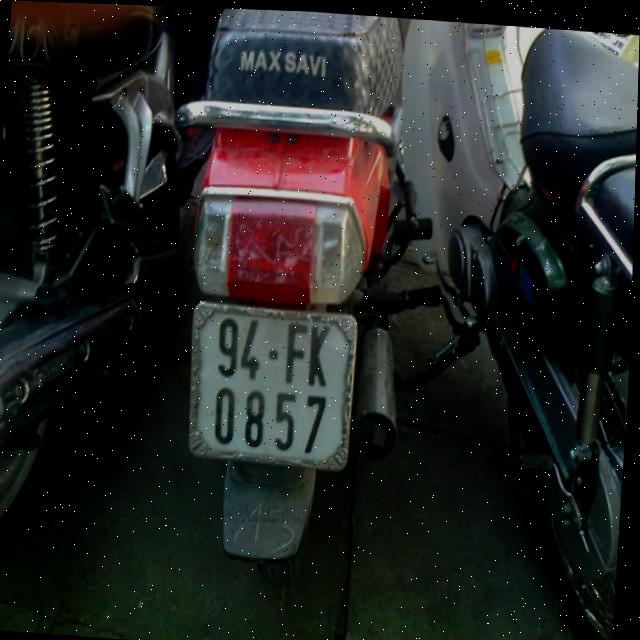motorcycle: (368, 17, 640, 640), (166, 7, 429, 582), (0, 0, 219, 606)
plate: (180, 302, 358, 471)
